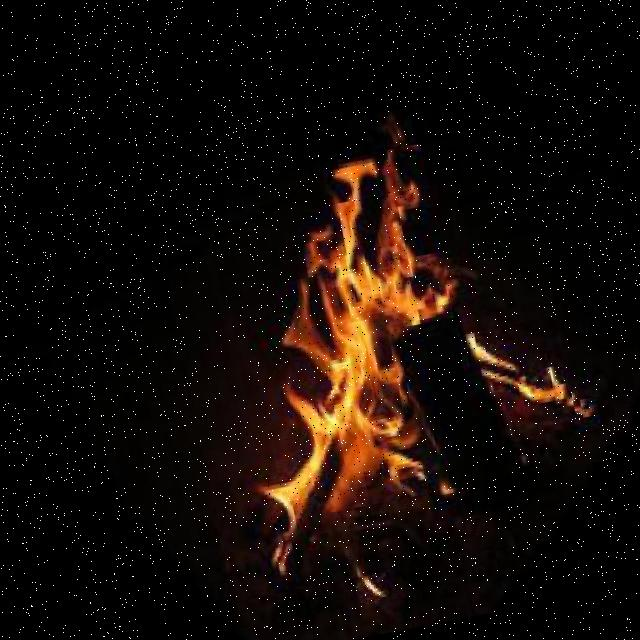fire: (154, 124, 598, 602)
